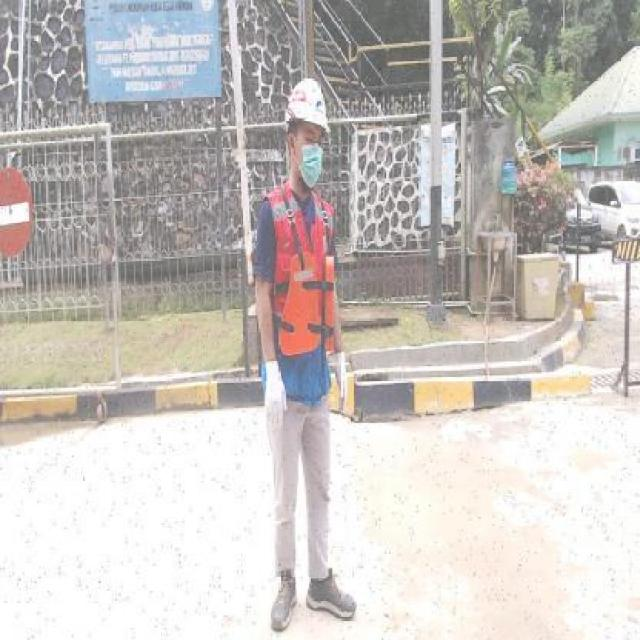Boots: (305, 562, 360, 623), (270, 566, 298, 634)
Gloves: (263, 358, 289, 433), (333, 351, 349, 415)
Helmet: (285, 77, 332, 135)
Mask: (299, 142, 324, 190)
Vest: (278, 250, 334, 355)
